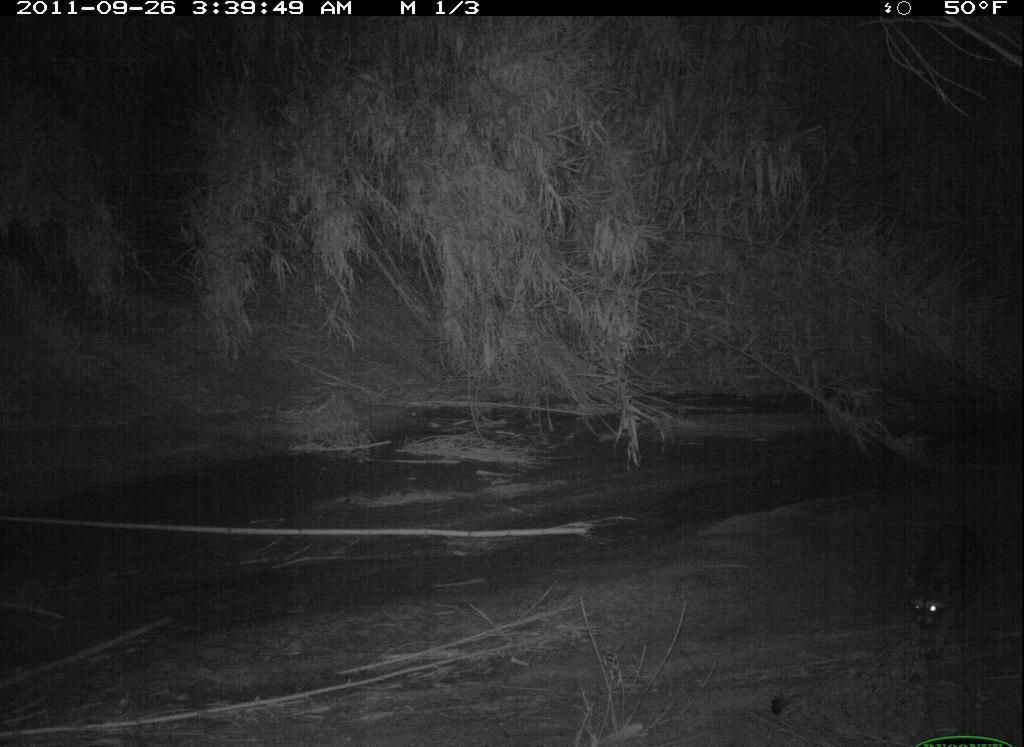raccoon: (900, 518, 995, 667)
